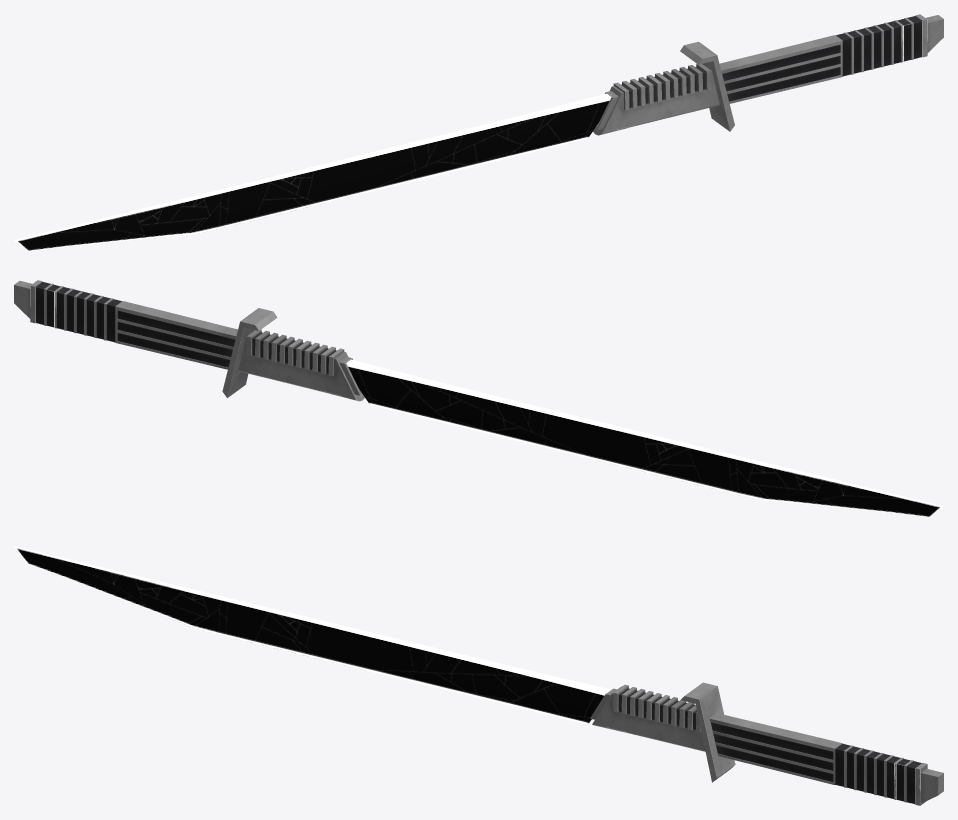
3 renders of one model, top to bottom at view 1: azimuth 30°, elevation 25°; view 2: azimuth 150°, elevation 25°; view 3: azimuth 330°, elevation 25°, orthographic.
Visible parts, largest first — view 1: saber, body1, body2, Garda; view 2: saber, body1, body2, Garda; view 3: saber, body1, body2, Garda.
Boxes of the visible parts, x1,y1,x2,y2 form: saber: (14, 93, 611, 251); body1: (719, 14, 943, 103); body2: (593, 63, 719, 135); Garda: (680, 41, 734, 131); saber: (346, 359, 943, 517); body1: (14, 280, 237, 369); body2: (238, 329, 364, 401); Garda: (222, 308, 277, 397); saber: (14, 546, 610, 724); body1: (709, 713, 943, 805); body2: (590, 684, 705, 751); Garda: (681, 682, 735, 782).
Bounding box in the file's own units: 459 × 37.87 × 15.93.
1 material, 1 textured.
